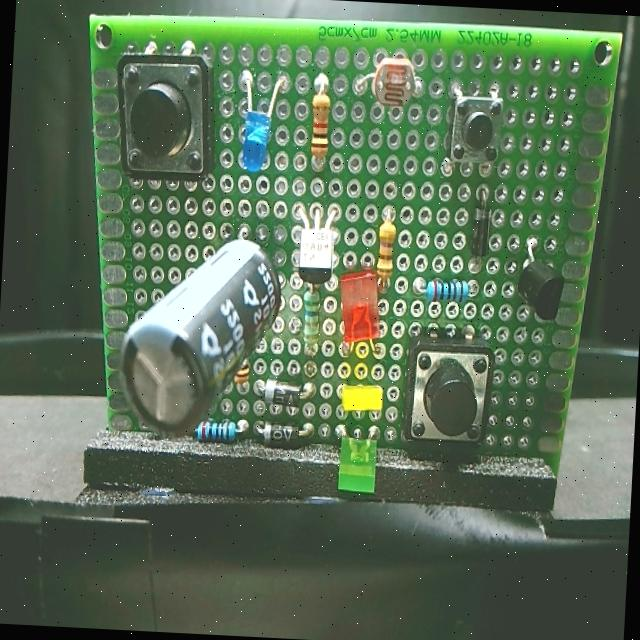Electrolytic capacitor: (114, 214, 288, 452)
cds: (346, 49, 429, 122)
diode: (465, 184, 496, 280), (249, 374, 322, 412), (248, 418, 320, 454)
led: (228, 61, 292, 181), (334, 263, 388, 361), (327, 420, 383, 500), (332, 376, 391, 419)
resistor: (303, 71, 337, 176), (296, 280, 332, 368), (374, 201, 404, 299), (408, 274, 481, 312), (188, 412, 252, 449), (230, 350, 252, 399)
switch: (107, 34, 223, 201), (395, 319, 501, 462), (438, 76, 509, 184)
transistor: (508, 232, 570, 332), (286, 199, 346, 286)
